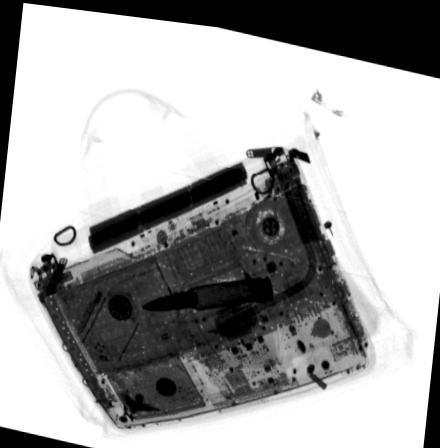Bullet: (139, 265, 273, 308)
